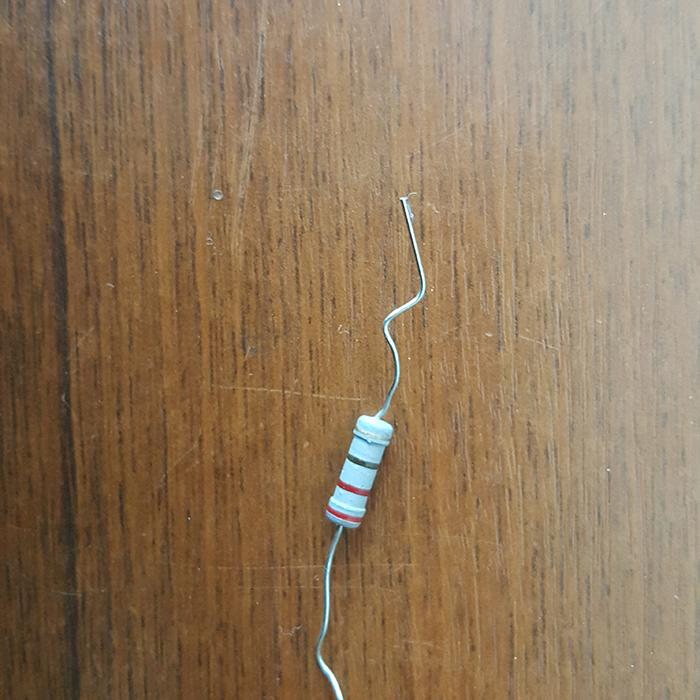resistor: (324, 412, 393, 529)
